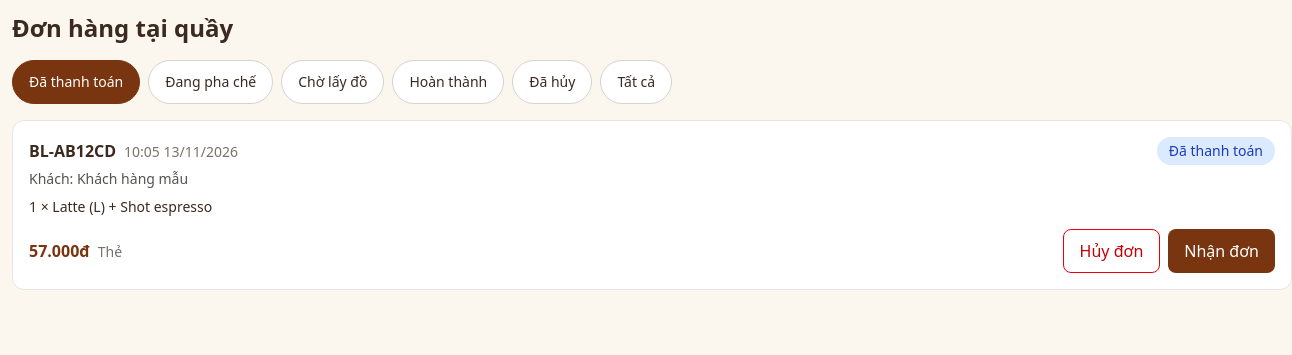
Test: Màn hình quầy của nhân viên (CT-53 – CT-58) › CT-57: Hủy đơn hỏi xác nhận; không đồng ý thì không gọi API, đồng ý thì gửi CANCELLED; đơn đã hủy hiện tình trạng hoàn tiền
Click the button "Hủy đơn". click: (1111, 251)
box: [1063,229,1160,273]
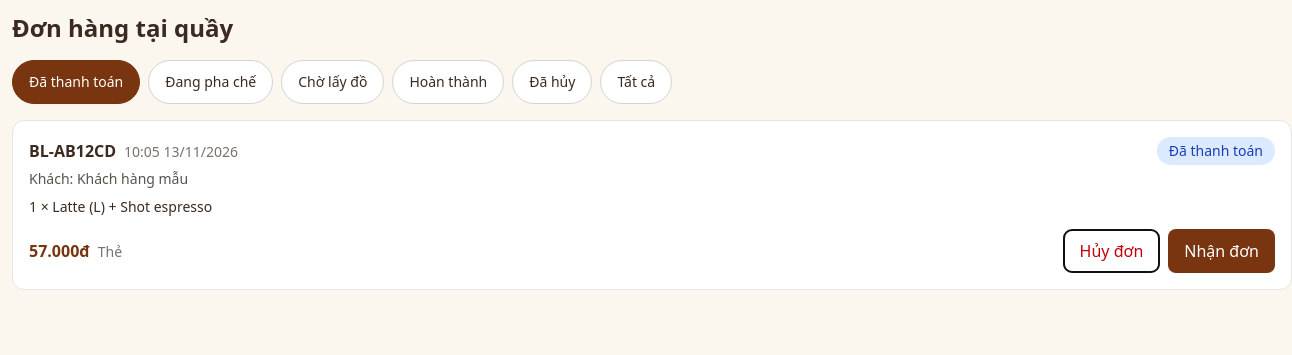
Click the button "Hủy đơn". click: (1111, 251)
box: [1063,229,1160,273]
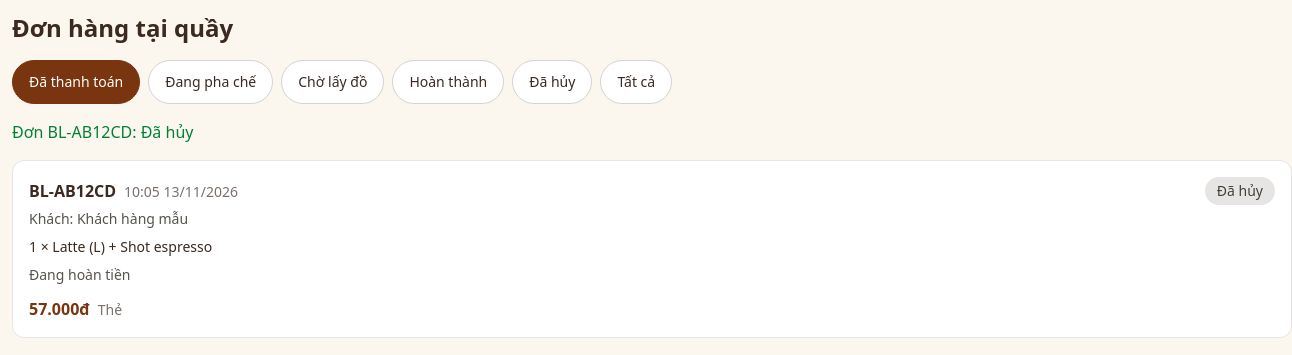
Expected: the text "Đơn BL-AB12CD: Đã hủy" is shown, [12,121,194,143]
Expected: the text "Đang hoàn tiền" is shown, [29,265,130,284]
